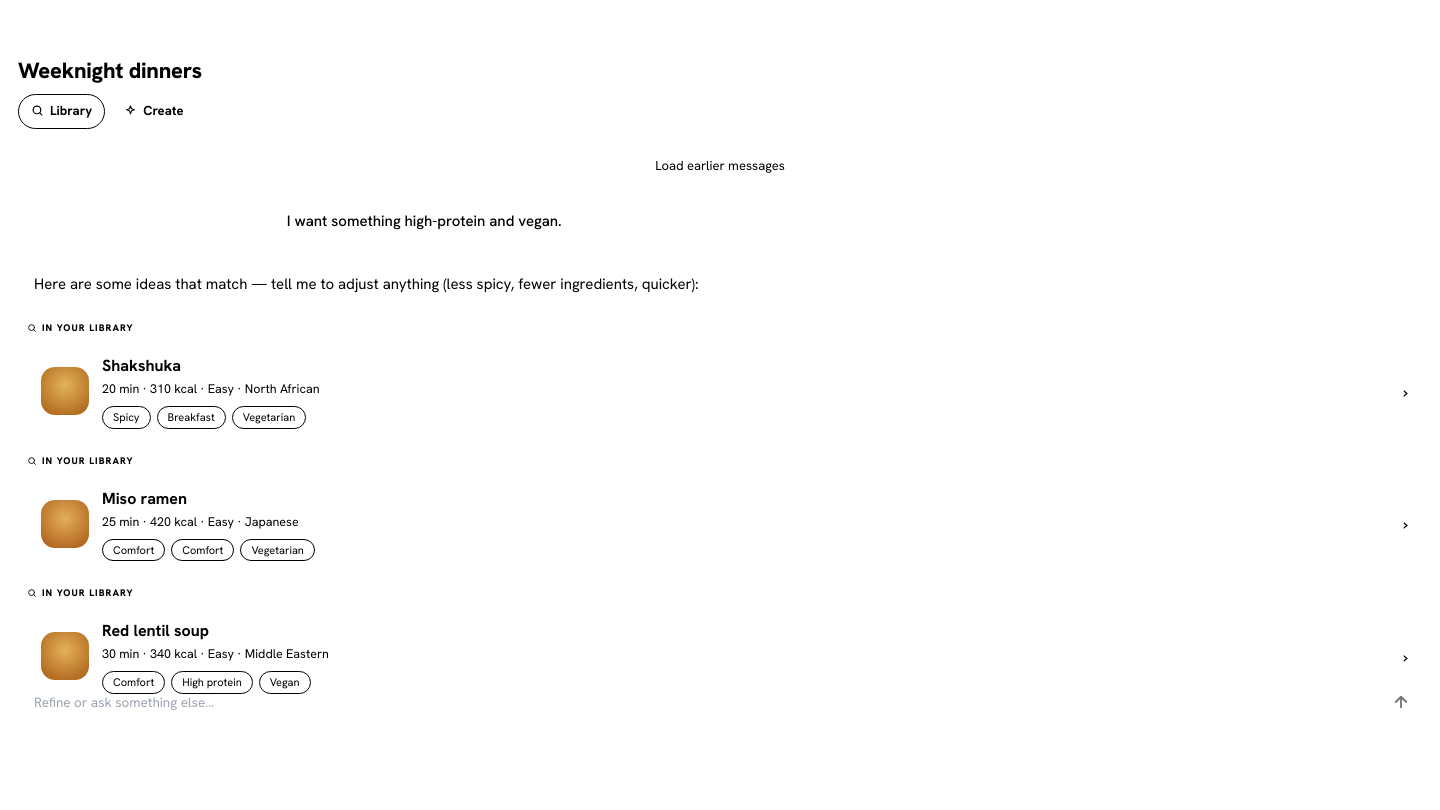
Test case: ChatPage — a single conversation › pages older messages via the scroll-back control
expect the text "Tell me what you're craving" is not shown: met
Click the button "Load earlier messages". click: (720, 165)
box: left=639, top=148, right=801, bottom=182
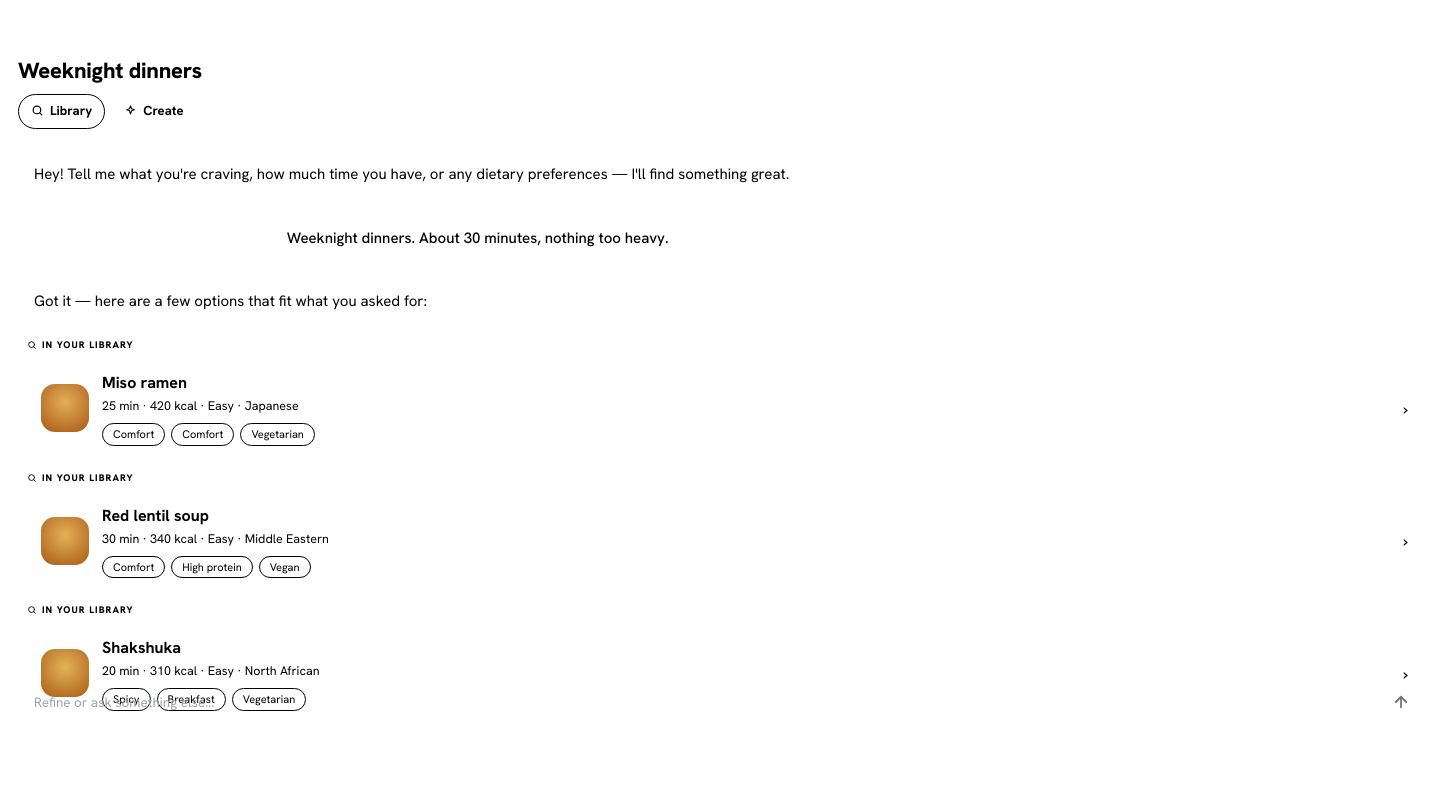
expect the text "Tell me what you're craving" is shown: met, box left=34, top=164, right=789, bottom=184
